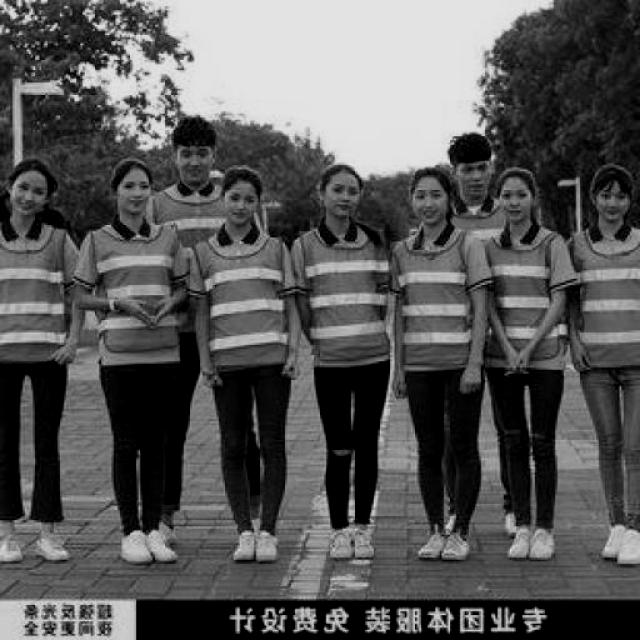face_nomask: (114, 174, 154, 216), (10, 175, 49, 214), (456, 160, 493, 200), (596, 185, 630, 225), (412, 186, 448, 222), (177, 146, 213, 182), (222, 186, 256, 223), (498, 186, 534, 220), (326, 182, 362, 214)
hand_noglove: (47, 329, 85, 371), (499, 338, 535, 378), (116, 296, 154, 332), (566, 337, 596, 377), (194, 358, 228, 393), (456, 359, 484, 399), (388, 364, 411, 407), (277, 347, 305, 382), (149, 293, 177, 328)
head_nohelmet: (443, 128, 496, 172), (169, 114, 221, 152), (218, 163, 271, 197), (5, 153, 57, 186), (586, 163, 638, 193), (493, 165, 543, 190), (316, 159, 363, 183), (408, 166, 449, 190), (107, 155, 153, 175)
person: (77, 160, 197, 570), (288, 159, 397, 561), (388, 164, 494, 571), (190, 163, 295, 568), (0, 156, 88, 572), (486, 164, 576, 567), (563, 164, 639, 570)
shoes: (142, 528, 184, 566), (115, 530, 157, 568), (612, 517, 640, 569), (348, 518, 379, 562), (503, 525, 537, 561), (226, 528, 262, 562), (416, 526, 452, 559), (36, 530, 70, 564), (527, 526, 559, 560), (328, 525, 358, 561), (438, 530, 472, 561), (250, 530, 280, 565), (0, 526, 26, 566)
vest: (200, 230, 289, 366), (304, 230, 392, 360), (390, 230, 472, 366), (94, 225, 182, 351), (485, 227, 567, 359), (564, 227, 640, 362), (1, 226, 70, 360), (152, 178, 228, 262)
